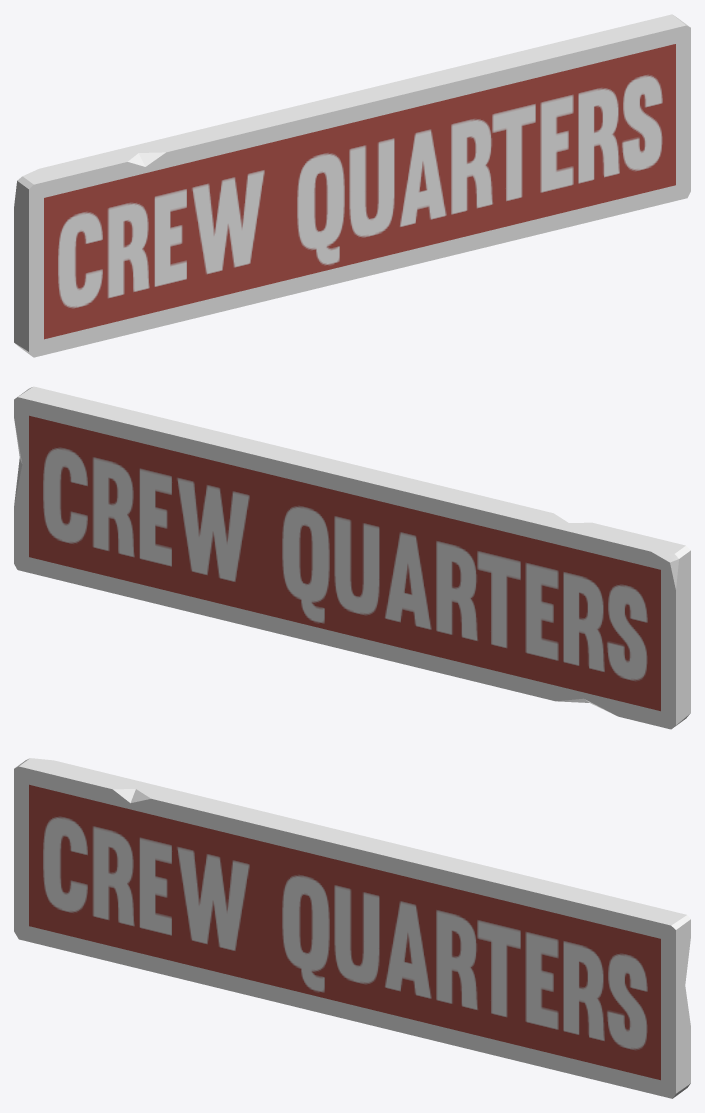
File: SM_Sign_CrewQuarters_01.fbx
3 views of the same model, one above another, from view 1: azimuth 30°, elevation 25°; view 2: azimuth 150°, elevation 25°; view 3: azimuth 330°, elevation 25° (orthographic).
Visible parts, largest first — view 1: SM_Sign_CrewQuarters_01; view 2: SM_Sign_CrewQuarters_01; view 3: SM_Sign_CrewQuarters_01.
Boxes of the visible parts, left/top/right/bottom form: SM_Sign_CrewQuarters_01: left=14, top=14, right=690, bottom=357; SM_Sign_CrewQuarters_01: left=14, top=386, right=690, bottom=729; SM_Sign_CrewQuarters_01: left=14, top=758, right=690, bottom=1098.
Bounding box in the file's own units: 368 × 91.8 × 14.42.
1 material, 1 textured.
